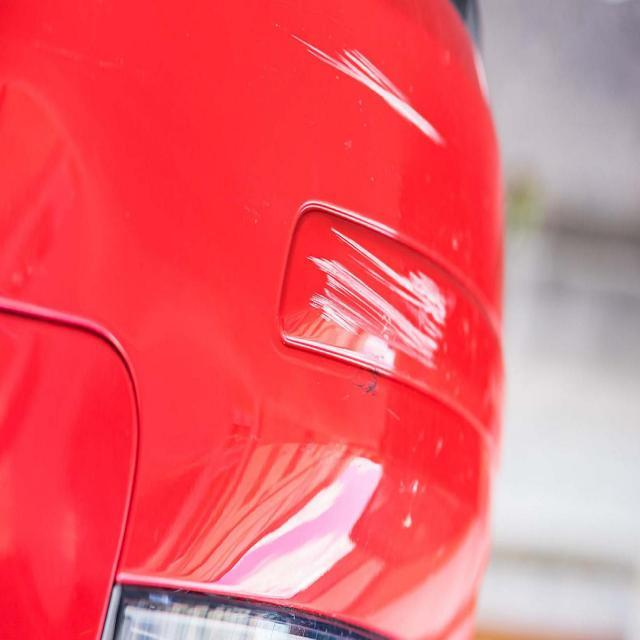scratch: (298, 6, 466, 174), (295, 214, 455, 369)
